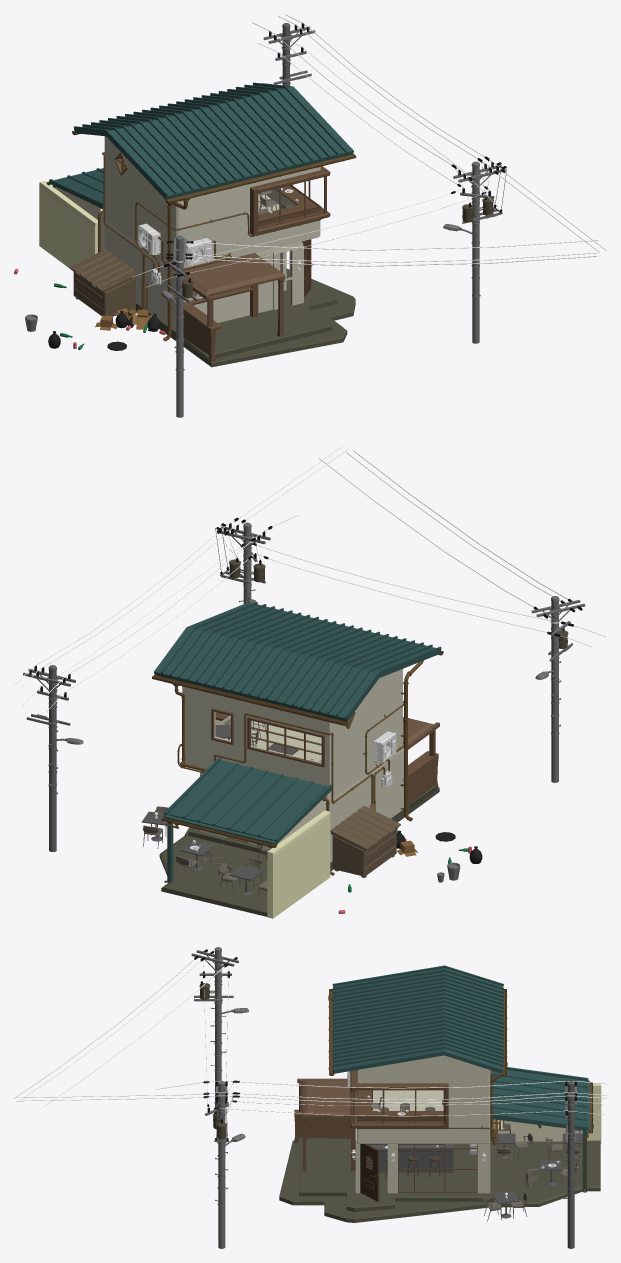
Rendered from building2.glb.
3 renders of one model, top to bottom at view 1: azimuth 30°, elevation 25°; view 2: azimuth 150°, elevation 25°; view 3: azimuth 270°, elevation 25°, orthographic. The views are drawn at different scales.
Visible parts, largest first — view 1: Box001.001, Plane.061, Cube.107, Cylinder.320, Cube.224, Cube.147, Cube.152, Cube.195, Plane.068, Plane.072, Plane001.001, Cylinder.379 (+8 smaller); view 2: Box001.001, Plane.061, Cube.107, Cylinder.320, Cube.224, Cube.152, Cube.147, Cube.195, Cube.222, Cube.223, Plane.072, Cylinder.379 (+2 smaller); view 3: Box001.001, Cube.107, Plane.061, Cylinder.320, Cube.195, Plane.068, Cube.222, Plane.072, Plane.067, Cube.152, Cylinder.485, Cube.223 (+10 smaller).
Part boxes in pixels (x1=…): Box001.001: x1=48, y1=82, x2=353, y2=208; Plane.061: x1=104, y1=136, x2=320, y2=332; Cube.107: x1=136, y1=268, x2=355, y2=367; Cylinder.320: x1=161, y1=23, x2=505, y2=417; Cube.224: x1=39, y1=181, x2=97, y2=269; Cube.147: x1=69, y1=249, x2=138, y2=316; Cube.152: x1=46, y1=130, x2=356, y2=341; Cube.195: x1=114, y1=152, x2=330, y2=236; Plane.068: x1=173, y1=253, x2=284, y2=299; Plane.072: x1=183, y1=278, x2=284, y2=362; Plane001.001: x1=138, y1=223, x2=212, y2=266; Cylinder.379: x1=163, y1=23, x2=506, y2=282; Box001.001: x1=154, y1=602, x2=441, y2=882; Plane.061: x1=182, y1=669, x2=403, y2=862; Cube.107: x1=159, y1=785, x2=439, y2=916; Cylinder.320: x1=23, y1=522, x2=585, y2=851; Cube.224: x1=267, y1=810, x2=330, y2=918; Cube.152: x1=152, y1=650, x2=443, y2=882; Cube.147: x1=330, y1=806, x2=400, y2=877; Cube.195: x1=211, y1=708, x2=355, y2=767; Cube.222: x1=143, y1=719, x2=312, y2=899; Cube.223: x1=141, y1=725, x2=298, y2=895; Plane.072: x1=408, y1=730, x2=438, y2=805; Cylinder.379: x1=29, y1=517, x2=582, y2=697; Box001.001: x1=332, y1=965, x2=589, y2=1192; Cube.107: x1=279, y1=1138, x2=600, y2=1222; Plane.061: x1=355, y1=1055, x2=490, y2=1193; Cylinder.320: x1=191, y1=947, x2=578, y2=1248; Cube.195: x1=350, y1=1070, x2=492, y2=1128; Plane.068: x1=297, y1=1078, x2=350, y2=1118; Cube.222: x1=371, y1=1097, x2=580, y2=1221; Plane.072: x1=294, y1=1083, x2=355, y2=1171; Plane.067: x1=367, y1=1144, x2=453, y2=1172; Cube.152: x1=328, y1=989, x2=593, y2=1192; Cylinder.485: x1=360, y1=1144, x2=379, y2=1201; Cube.223: x1=492, y1=1133, x2=582, y2=1218.
Size of the model in its own units: 14.53 by 6.94 by 21.93.
